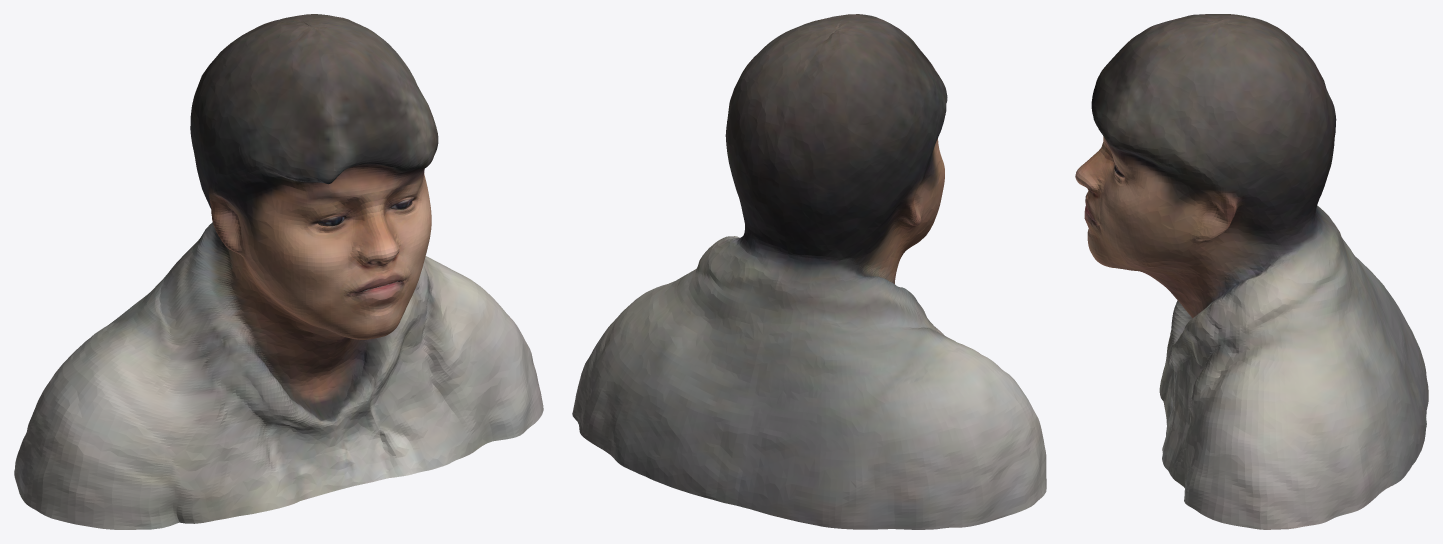
Rendered from juan-creador.glb.
The picture shows the model from 3 angles, left to right: view 1: azimuth 30°, elevation 25°; view 2: azimuth 150°, elevation 25°; view 3: azimuth 270°, elevation 25°; orthographic projection. The views are drawn at different scales.
Visible parts, largest first — view 1: Node1; view 2: Node1; view 3: Node1.
Boxes of the visible parts, left/top/right/bottom form: Node1: left=14, top=14, right=543, bottom=529; Node1: left=572, top=14, right=1046, bottom=529; Node1: left=1075, top=14, right=1428, bottom=529.
Bounding box in the file's own units: 0.4626 × 0.3904 × 0.3141.
Materials: 1 (1 with a texture image).
